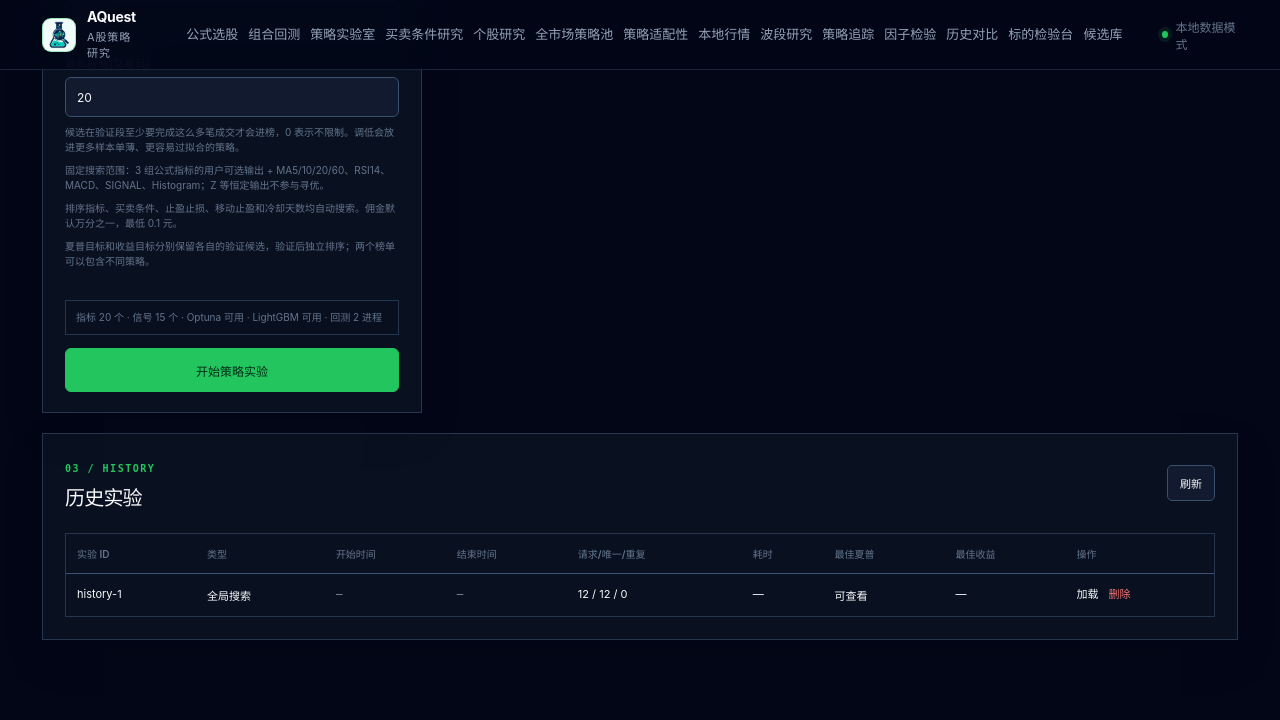
Test: StrategyDiscoveryPage › restores user-facing settings when loading experiment history
The image size is (1280, 720).
(page scrolled)
Click the button with class "table-link" showing "加载": [1088, 595] box [1077,587,1099,603]
(page scrolled)
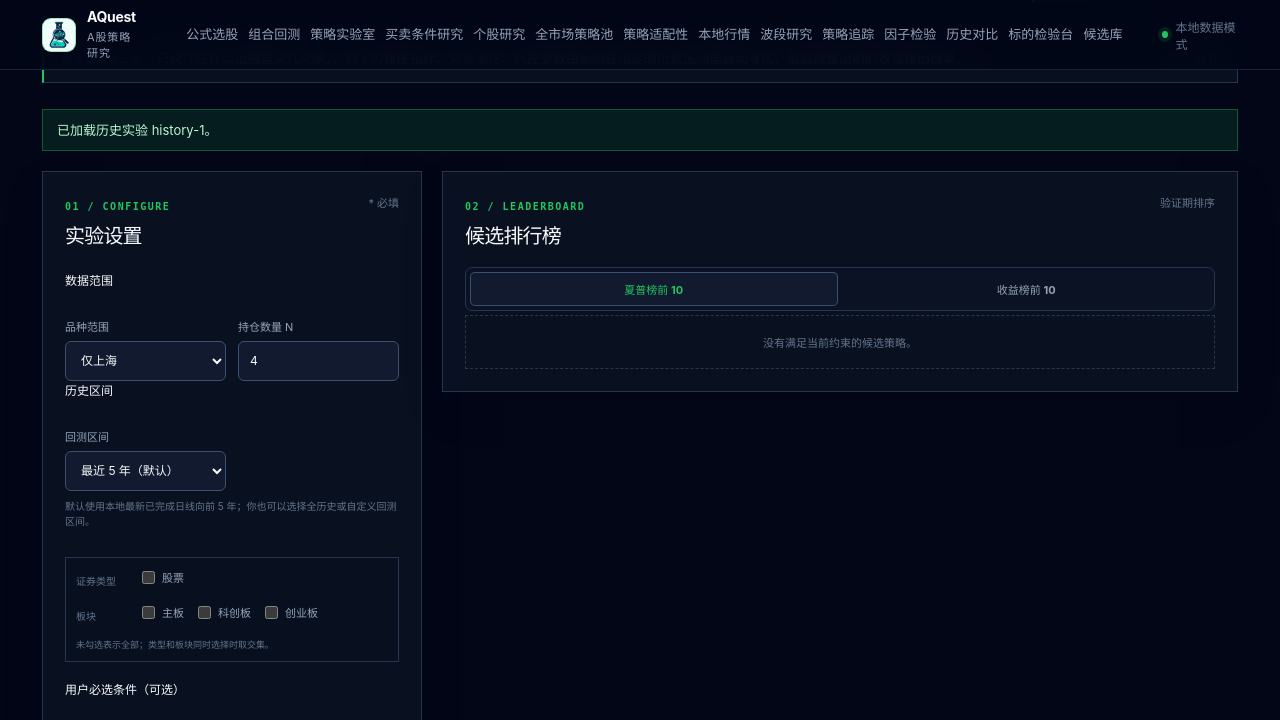
Expected: the dropdown with test id "strategy-discovery-universe" shows "仅上海", [65,340,226,380]
Expected: the number field with test id "strategy-discovery-positions" holds "4", [238,340,399,380]
